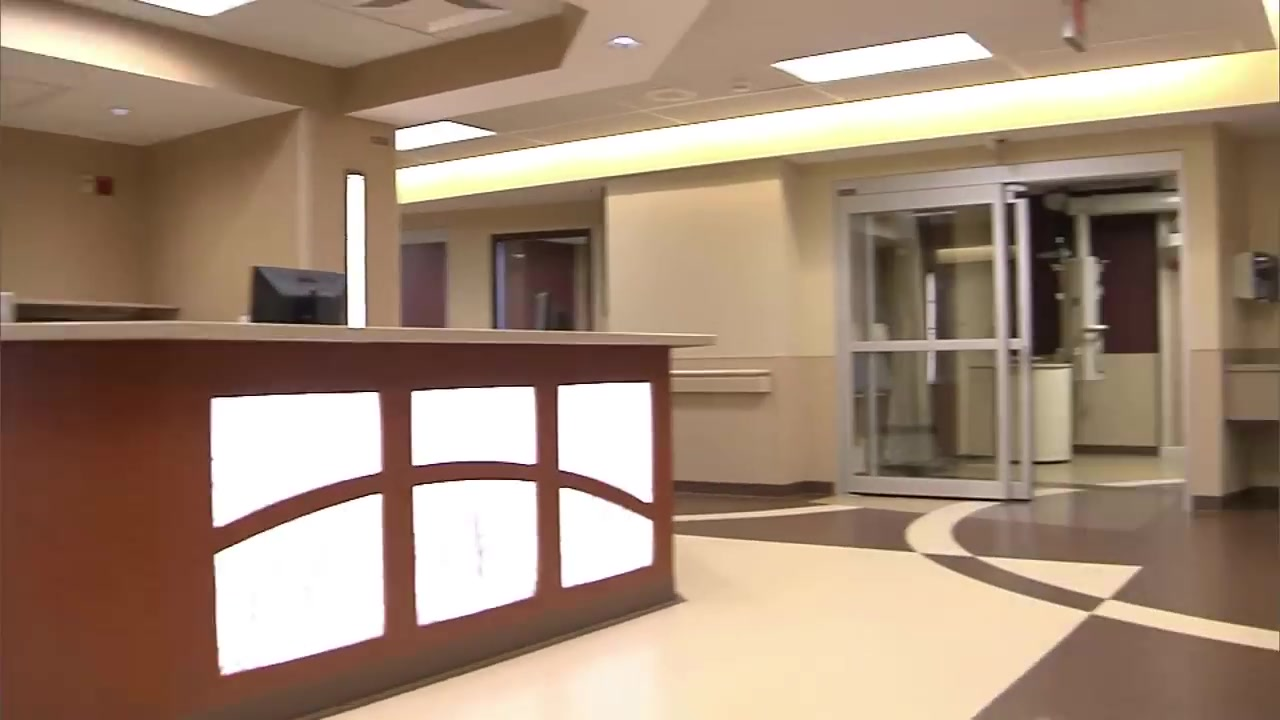computer: (249, 264, 347, 322), (530, 290, 573, 333)
counter: (1, 317, 678, 707), (964, 370, 1069, 463), (1218, 371, 1280, 426)
countertop: (1, 319, 718, 351), (965, 359, 1074, 372), (1223, 361, 1280, 375)
curtain: (882, 212, 935, 466)
dispenser: (1231, 252, 1277, 304)
hallway_assist_bar: (669, 368, 773, 395)
